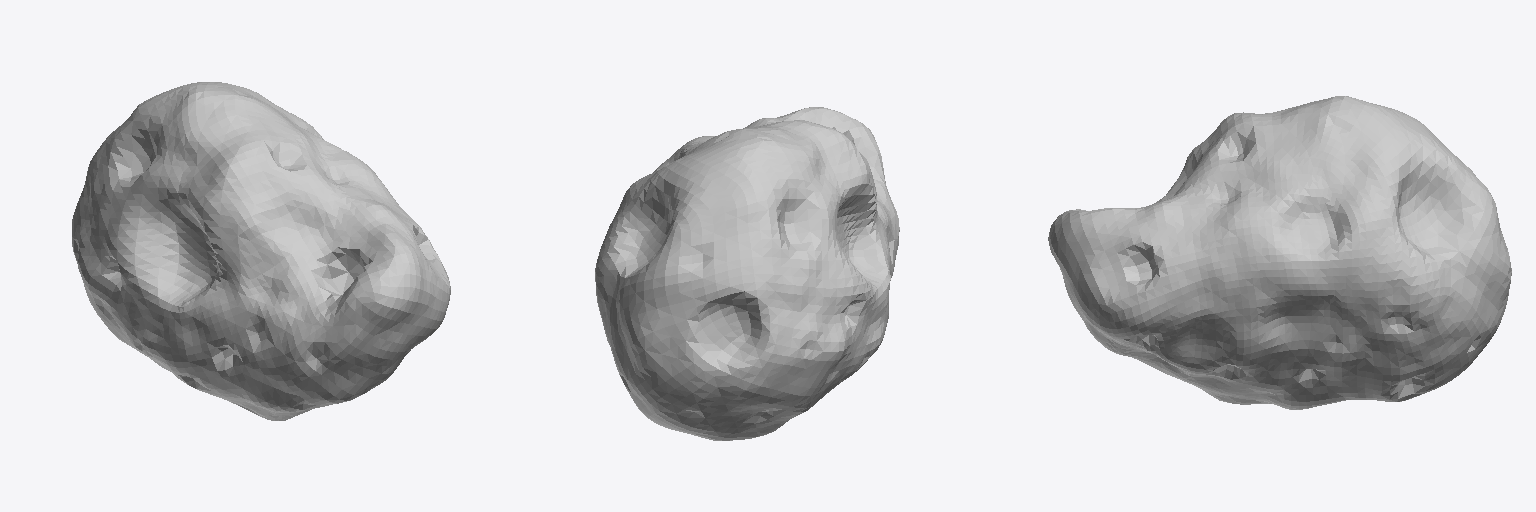
The model's file is astroid.obj.
3 views of the same model, side by side, from view 1: azimuth 30°, elevation 25°; view 2: azimuth 150°, elevation 25°; view 3: azimuth 270°, elevation 25° (orthographic).
Visible parts, largest first — view 1: asteroid_uv:Group1; view 2: asteroid_uv:Group1; view 3: asteroid_uv:Group1.
Boxes of the visible parts, x1,y1,x2,y2 form: asteroid_uv:Group1: [72, 82, 450, 420]; asteroid_uv:Group1: [595, 107, 899, 440]; asteroid_uv:Group1: [1048, 96, 1511, 409].
Size of the model in its own units: 46.98 by 53.92 by 77.41.